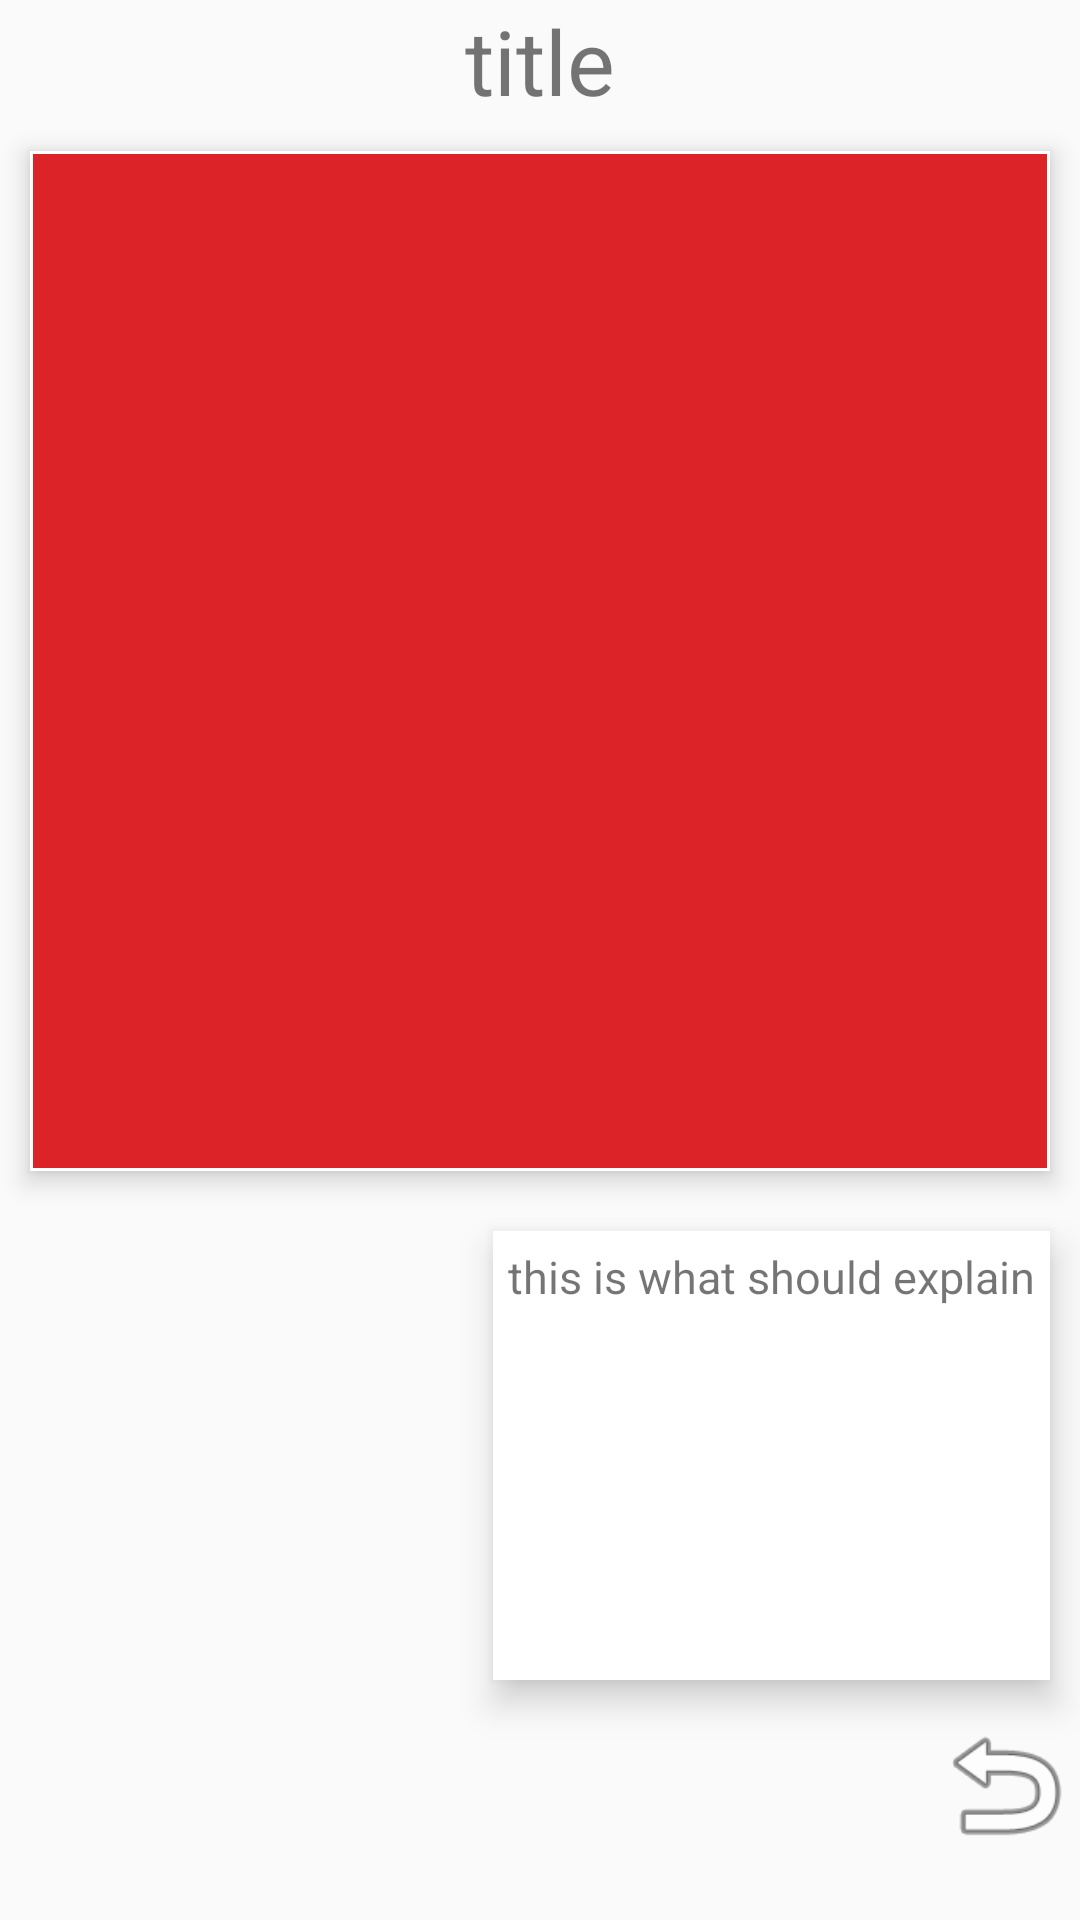

Where to tap for icons on this 1080w x 1920h app screen, as (x,y):
revert: (1007,1786)
